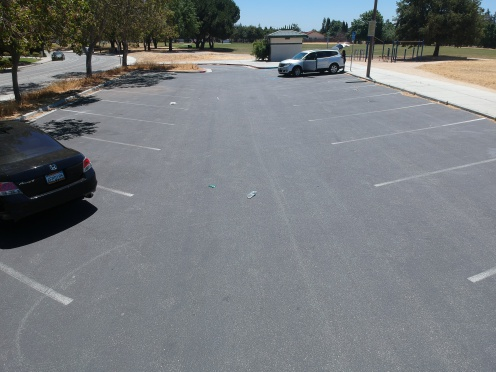bottle: (243, 186, 260, 201)
